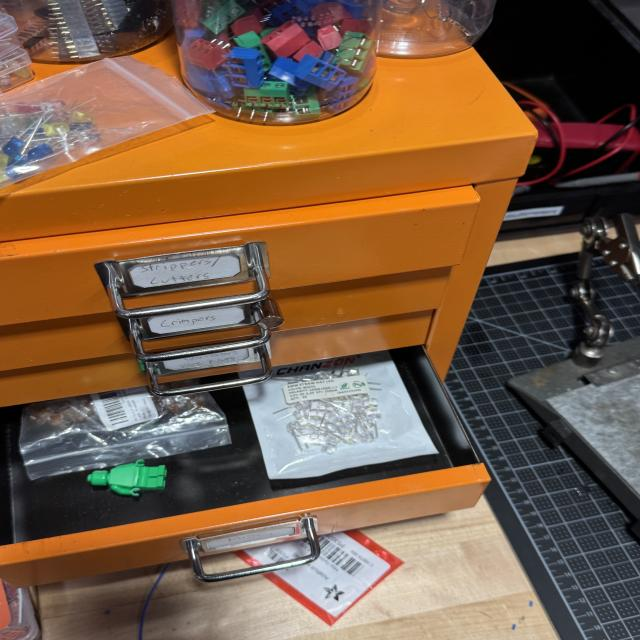Green Mini Figure: (87, 459, 167, 497)
